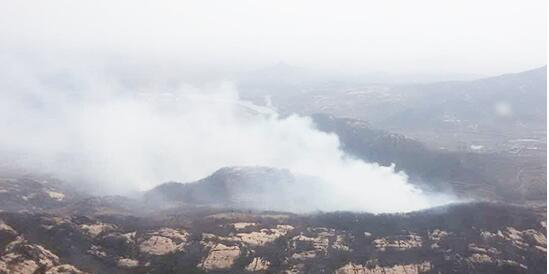yanwu: (0, 2, 470, 218)
